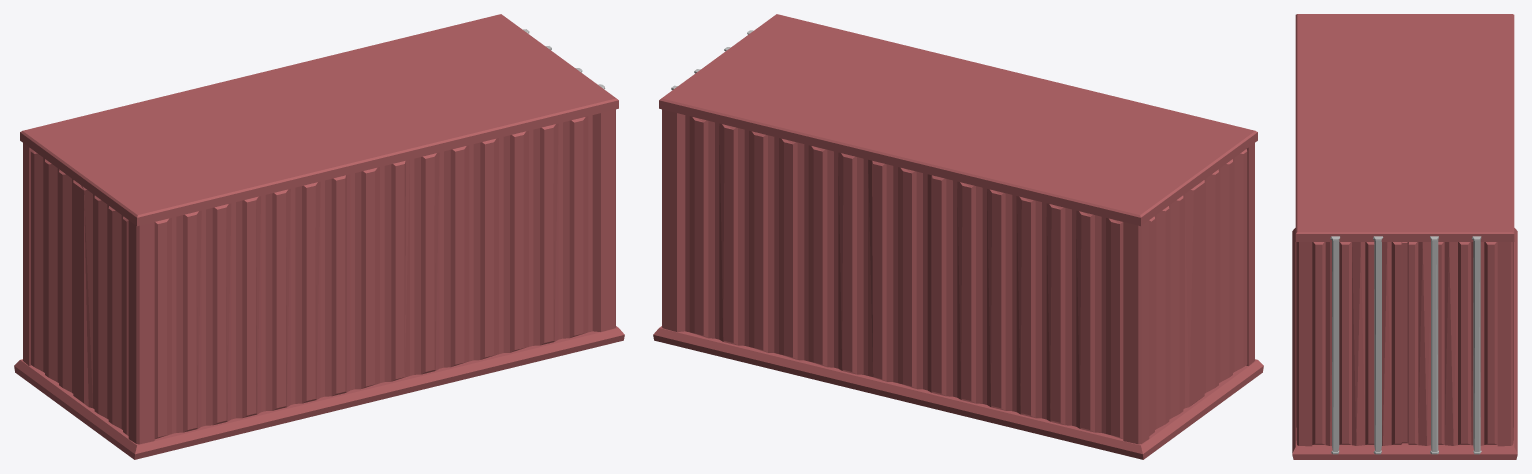
Rendered from container.glb.
3 views of the same model, side by side, from view 1: azimuth 30°, elevation 25°; view 2: azimuth 150°, elevation 25°; view 3: azimuth 270°, elevation 25° (orthographic). The views are drawn at different scales.
Parts seen in each view (by area): view 1: Contanier; view 2: Contanier; view 3: Contanier.
Part boxes in pixels (x1=…): Contanier: x1=14, y1=14, x2=624, y2=459; Contanier: x1=653, y1=14, x2=1263, y2=459; Contanier: x1=1292, y1=14, x2=1517, y2=459.
Bounding box in the file's own units: 0.62 × 0.2914 × 0.264.
